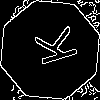K: (25, 25, 78, 70)
